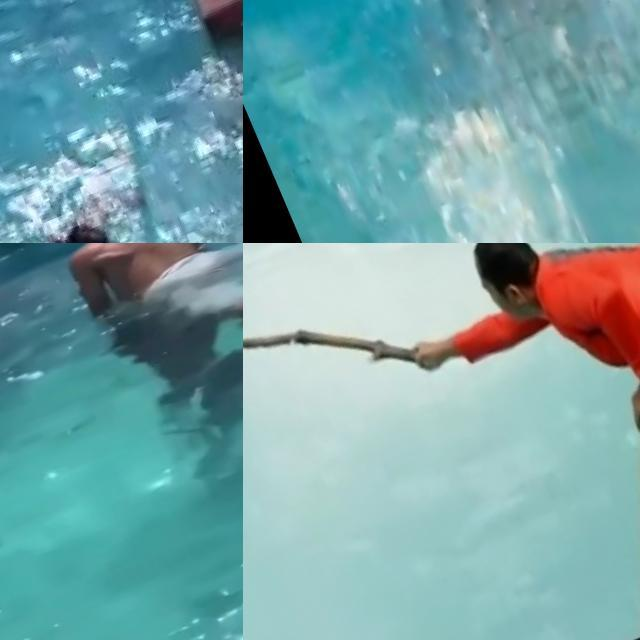Out of Water: (359, 243, 640, 509)
drowning: (333, 0, 640, 231)
swimming: (10, 243, 243, 438), (0, 122, 231, 243)
